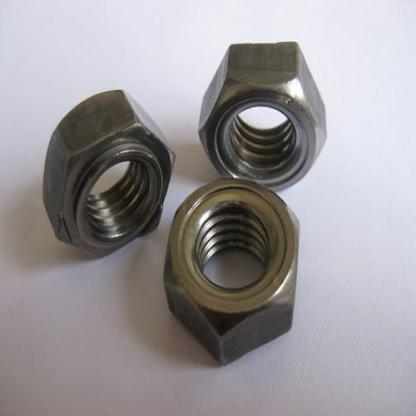FOD: (164, 174, 302, 366), (40, 84, 178, 256), (197, 39, 330, 198)
